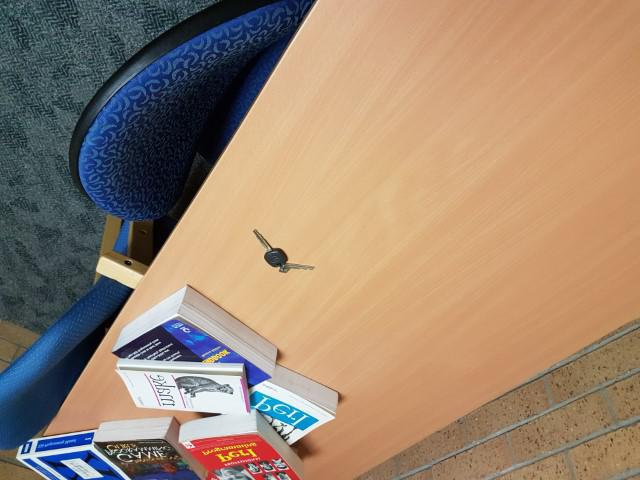key: (254, 229, 287, 268)
